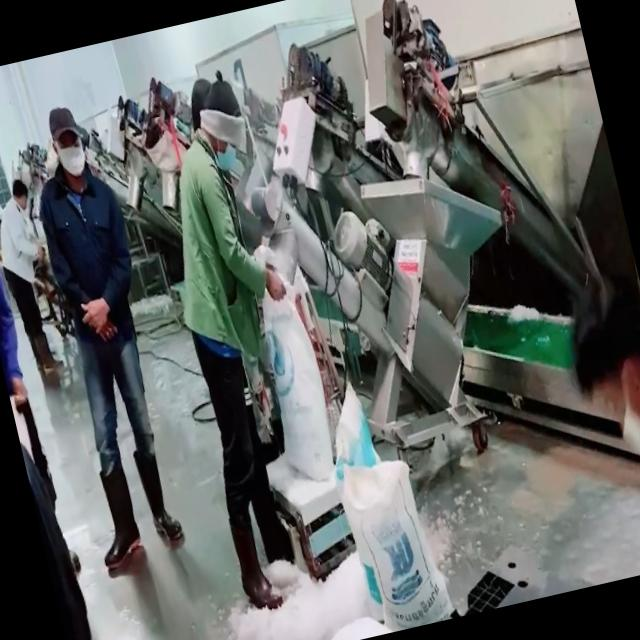ice-bag: (239, 266, 351, 502), (338, 439, 451, 636)
